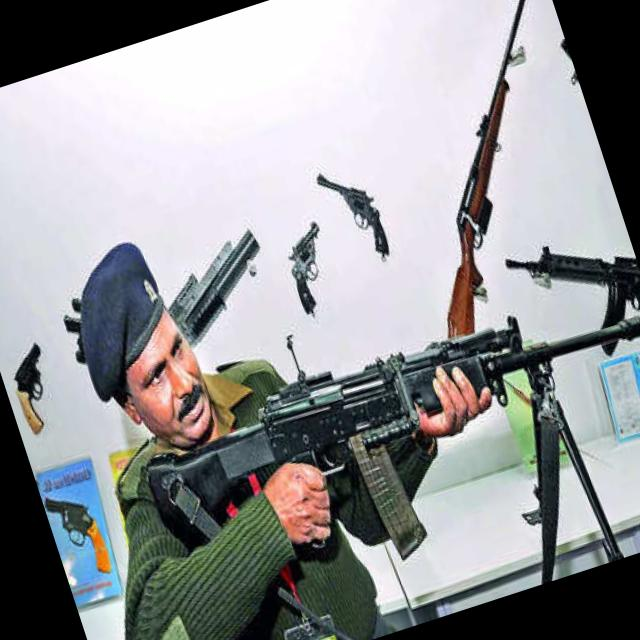Weapon: (123, 268, 640, 627), (310, 150, 404, 276), (271, 213, 353, 326), (0, 334, 74, 445)
